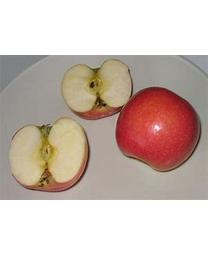apple: (114, 86, 200, 172), (8, 118, 90, 194), (62, 58, 133, 122)
